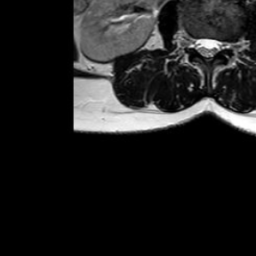CCS_normal: (202, 27, 212, 71)
LFS_normal: (221, 27, 232, 58)
LLS_normal: (212, 28, 221, 62)
RFS_normal: (183, 24, 193, 57)
RLS_normal: (193, 27, 202, 60)
